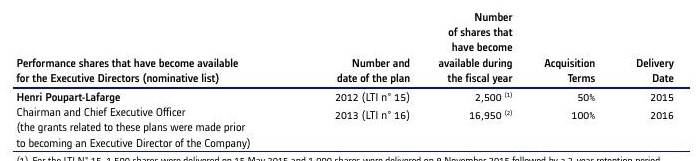table: (0, 0, 700, 161)
